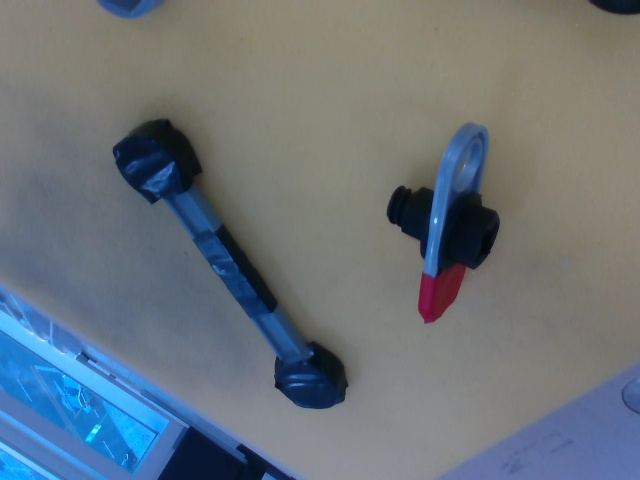part_1_good: (382, 119, 505, 328)
